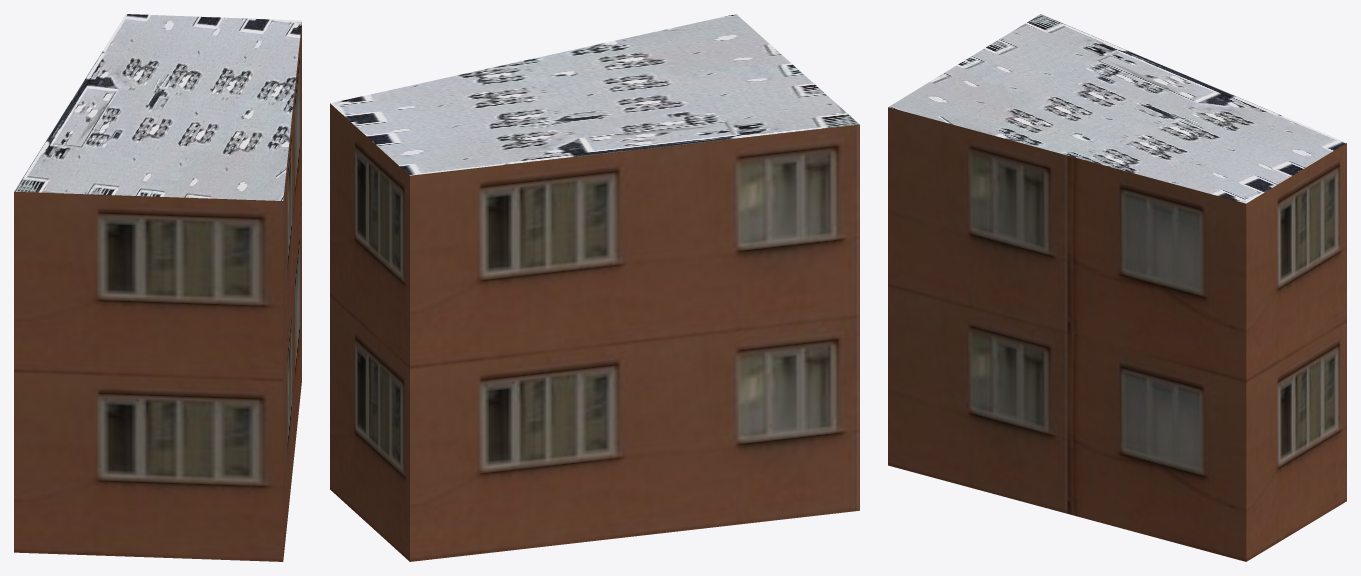
Rendered from ResTex__4593.fbx.
3 views of the same model, side by side, from view 1: azimuth 30°, elevation 25°; view 2: azimuth 150°, elevation 25°; view 3: azimuth 270°, elevation 25° (orthographic). The views are drawn at different scales.
Visible parts, largest first — view 1: CityEngineMaterial_20_m, CityEngineMaterial_4_m; view 2: CityEngineMaterial_20_m, CityEngineMaterial_4_m; view 3: CityEngineMaterial_20_m, CityEngineMaterial_4_m.
Boxes of the visible parts, x1,y1,x2,y2 form: CityEngineMaterial_20_m: (14,22,301,561); CityEngineMaterial_4_m: (14,14,301,200); CityEngineMaterial_20_m: (330,103,859,561); CityEngineMaterial_4_m: (330,14,859,175); CityEngineMaterial_20_m: (888,107,1346,561); CityEngineMaterial_4_m: (888,14,1346,203).
Size of the model in its own units: 6.81 by 6 by 6.96.
2 materials, 2 textured.
